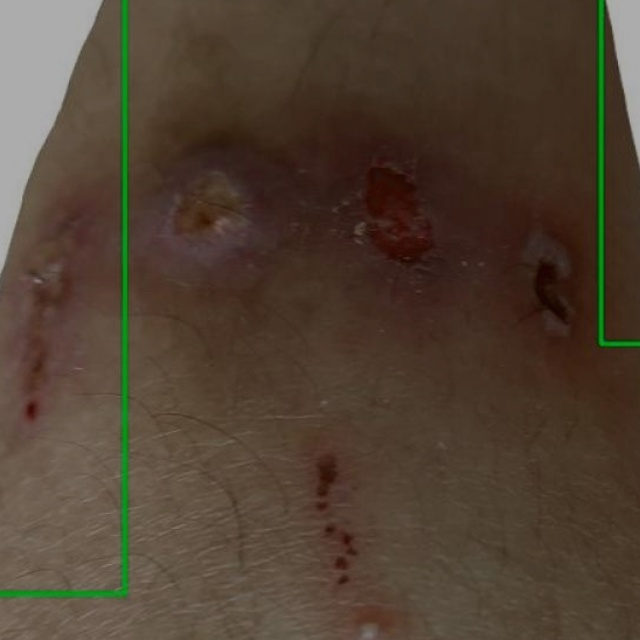Contact Dermatitis: (0, 0, 125, 593)
